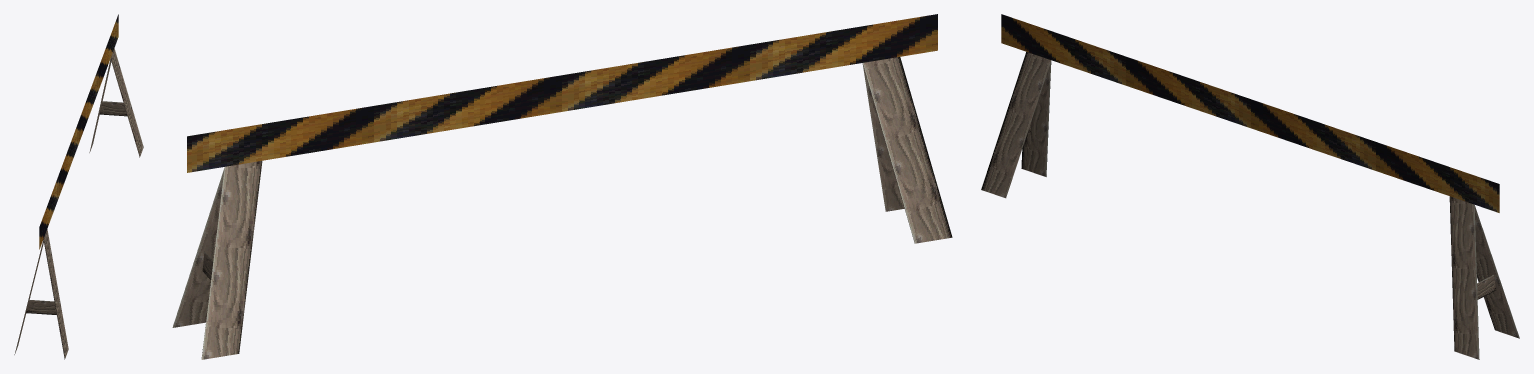
The model's file is primary_034.glb.
3 renders of one model, left to right at view 1: azimuth 30°, elevation 25°; view 2: azimuth 150°, elevation 25°; view 3: azimuth 270°, elevation 25°, orthographic. The views are drawn at different scales.
Parts seen in each view (by area): view 1: Object; view 2: Object; view 3: Object.
Boxes of the visible parts, <box> form: Object: <box>14,14,143,359</box>; Object: <box>172,14,952,359</box>; Object: <box>981,14,1519,359</box>.
Size of the model in its own units: 3.13 by 1.26 by 3.73.
Materials: 7 (7 with a texture image).
